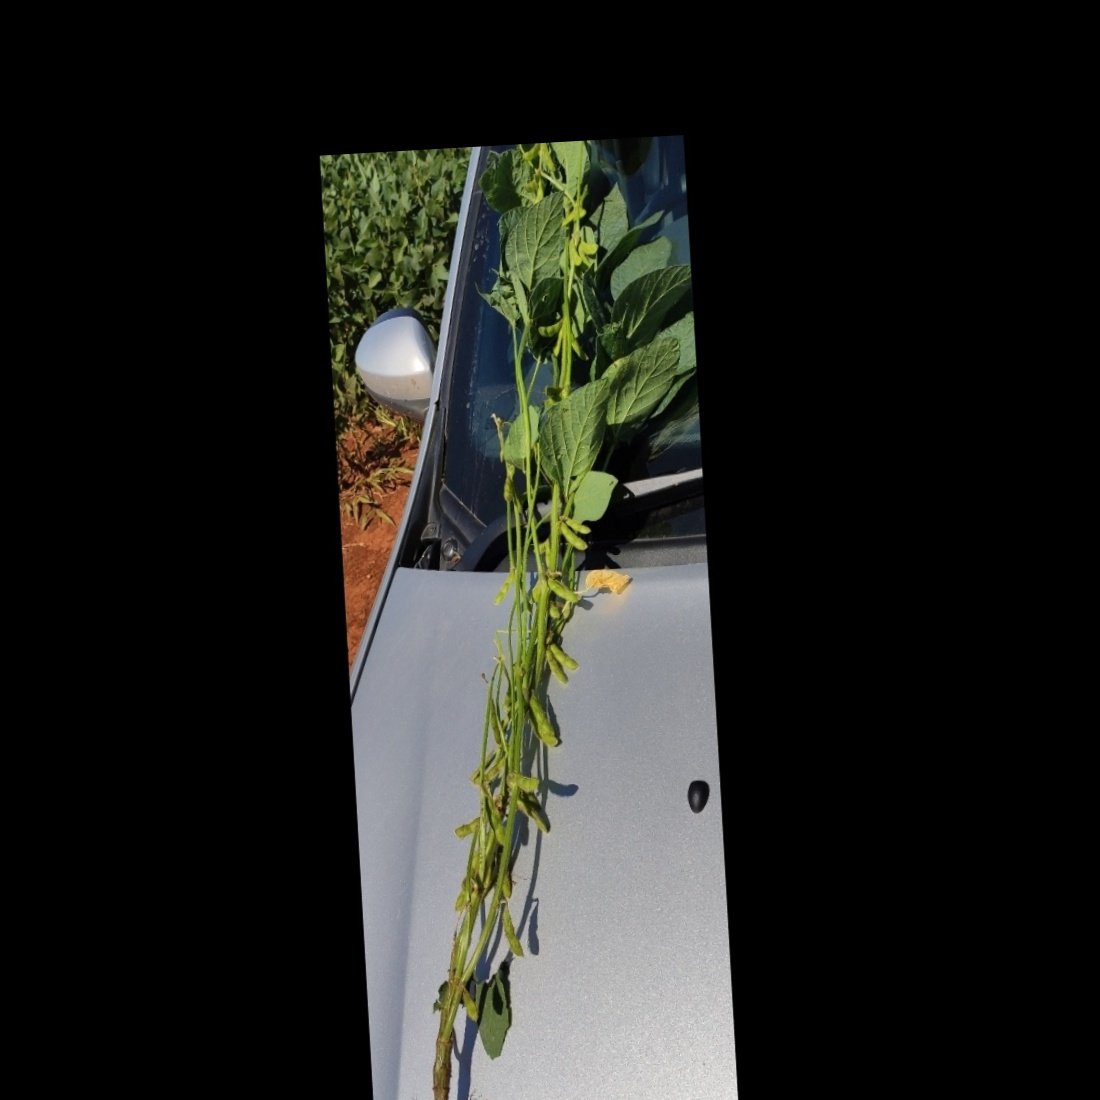pod: (488, 568, 523, 611), (498, 905, 524, 962), (553, 518, 589, 556), (545, 638, 580, 674), (542, 643, 569, 689), (546, 575, 580, 605), (516, 130, 547, 162), (560, 513, 594, 540), (532, 316, 569, 339), (538, 136, 558, 175), (450, 813, 480, 838), (562, 235, 584, 267)
soy: (324, 53, 724, 1100)
